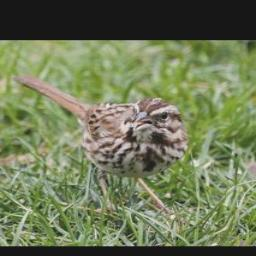Sparrow: (10, 72, 191, 204)
